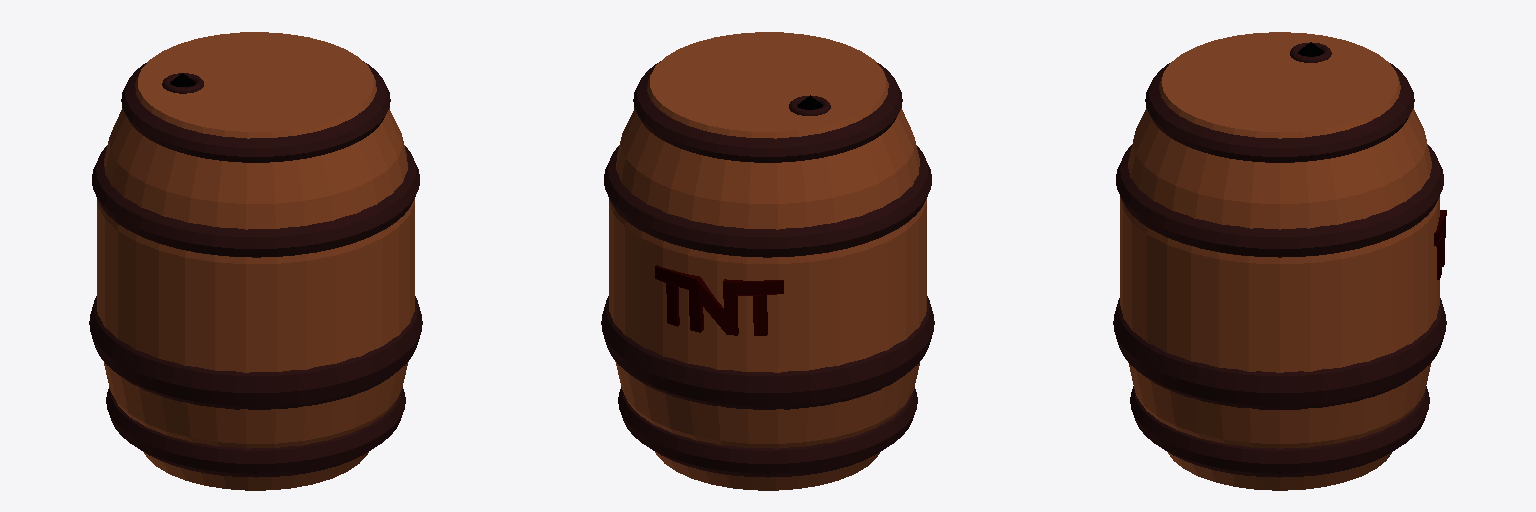
File: TNT.obj
3 views of the same model, side by side, from view 1: azimuth 30°, elevation 25°; view 2: azimuth 150°, elevation 25°; view 3: azimuth 270°, elevation 25° (orthographic).
Visible parts, largest first — view 1: Cylinder, Torus, Torus.001, Torus.002, Torus.003; view 2: Cylinder, Torus, Torus.001, Torus.002, Torus.003, Text; view 3: Cylinder, Torus, Torus.001, Torus.002, Torus.003, Text.
Boxes of the visible parts, box(x1,y1,x2,y2) form: Cylinder: box(97, 32, 414, 490); Torus: box(89, 296, 422, 409); Torus.001: box(92, 146, 419, 257); Torus.002: box(106, 387, 405, 477); Torus.003: box(121, 61, 390, 162); Cylinder: box(609, 32, 926, 490); Torus: box(601, 296, 934, 409); Torus.001: box(604, 146, 931, 257); Torus.002: box(618, 387, 917, 477); Torus.003: box(633, 61, 902, 162); Text: box(655, 265, 783, 335); Cylinder: box(1120, 32, 1439, 490); Torus: box(1113, 298, 1446, 409); Torus.001: box(1116, 145, 1443, 257); Torus.002: box(1130, 386, 1429, 477); Torus.003: box(1145, 63, 1414, 162); Text: box(1434, 210, 1446, 279).
Bounding box in the file's own units: 0.7808 × 0.9609 × 0.7808.